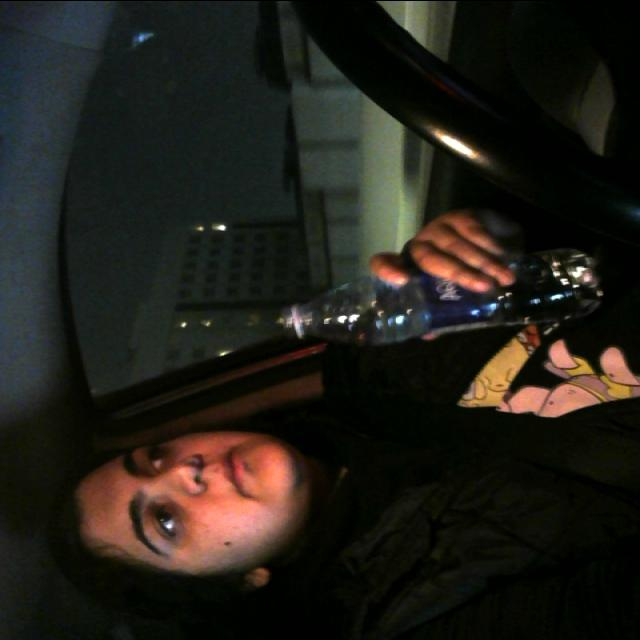drinking: (267, 242, 609, 352)
